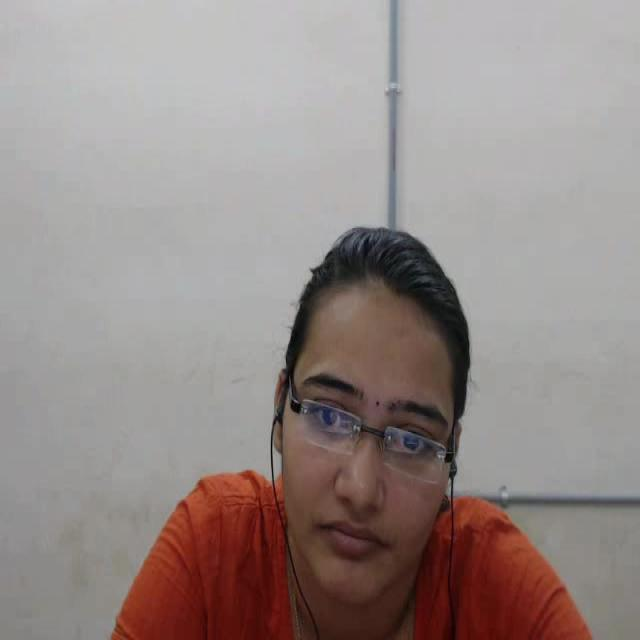Engaged: (241, 178, 495, 640)
